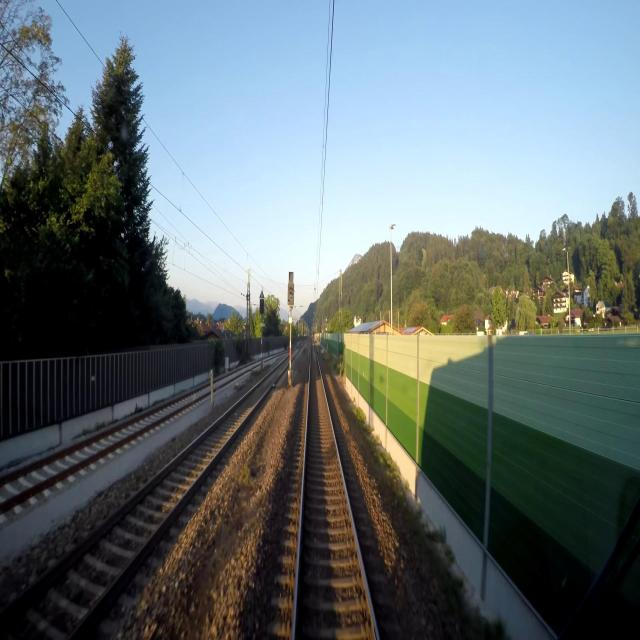rail-track: (0, 357, 289, 639), (0, 386, 210, 501), (297, 345, 375, 639)
